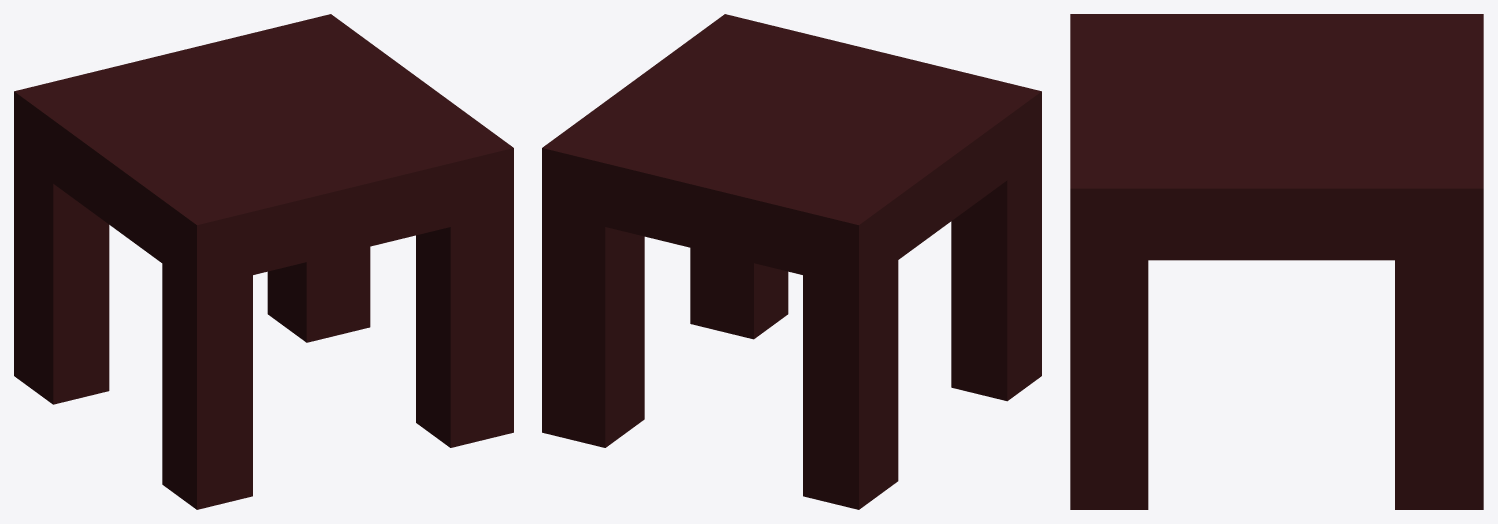
The model's file is Brown chair.fbx.
3 renders of one model, left to right at view 1: azimuth 30°, elevation 25°; view 2: azimuth 150°, elevation 25°; view 3: azimuth 270°, elevation 25°, orthographic. The views are drawn at different scales.
Parts seen in each view (by area): view 1: Brown chair; view 2: Brown chair; view 3: Brown chair.
Boxes of the visible parts, <box> form: Brown chair: <box>14,14,513,509</box>; Brown chair: <box>542,14,1041,509</box>; Brown chair: <box>1070,14,1483,509</box>.
Bounding box in the file's own units: 96 × 82.41 × 96.
